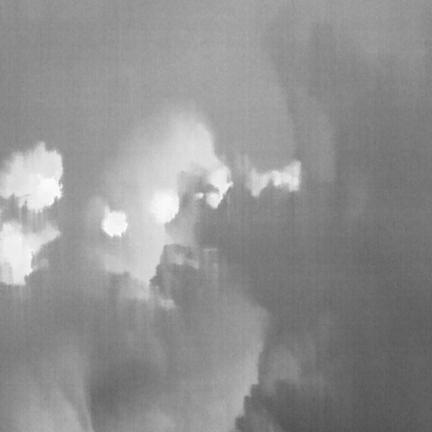flukeprints: (26, 177, 61, 211), (206, 165, 232, 208), (151, 191, 179, 224), (101, 208, 128, 236)
